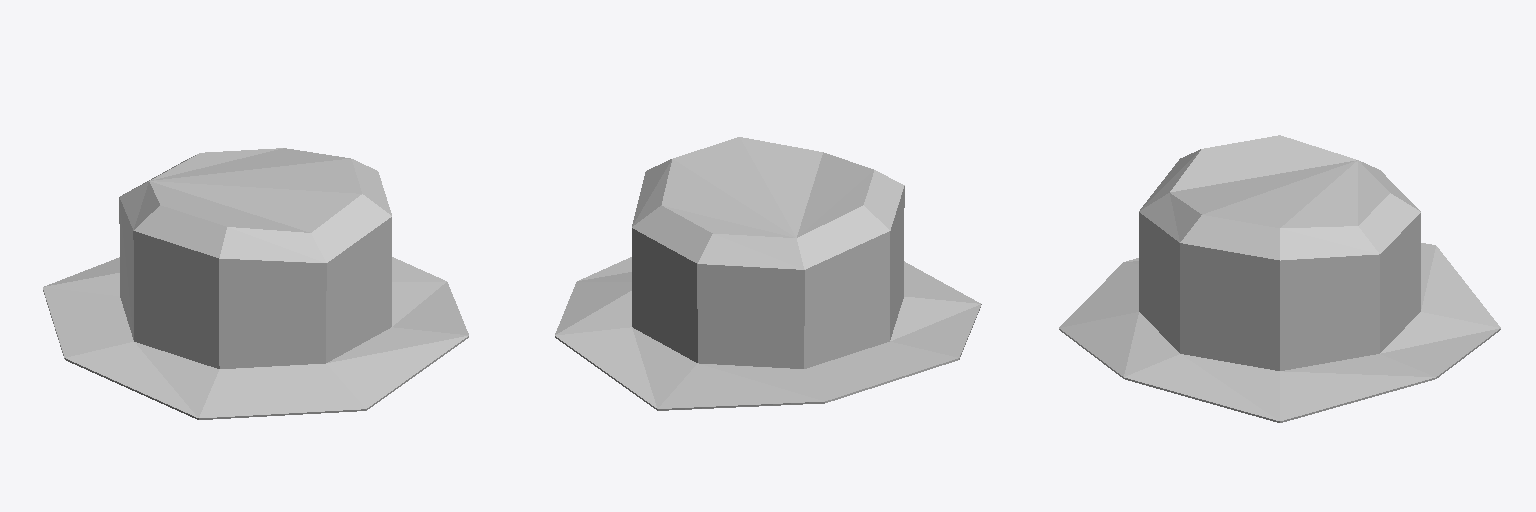
Rendered from fishing_hat.obj.
3 views of the same model, side by side, from view 1: azimuth 30°, elevation 25°; view 2: azimuth 150°, elevation 25°; view 3: azimuth 270°, elevation 25° (orthographic).
Parts seen in each view (by area): view 1: Circle; view 2: Circle; view 3: Circle.
Boxes of the visible parts, <box> form: Circle: <box>43,148,468,419</box>; Circle: <box>555,137,981,410</box>; Circle: <box>1059,135,1500,422</box>.
Bounding box in the file's own units: 2 × 0.7413 × 2.